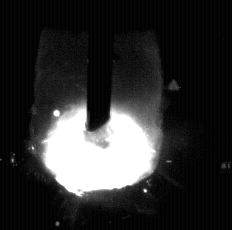arame: (87, 0, 111, 131)
poca: (30, 0, 163, 230)
